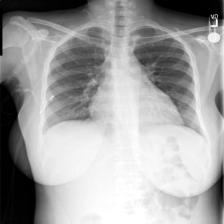normal: (38, 19, 206, 142)
